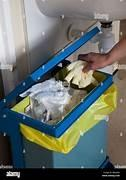Glove: (65, 60, 95, 87)
